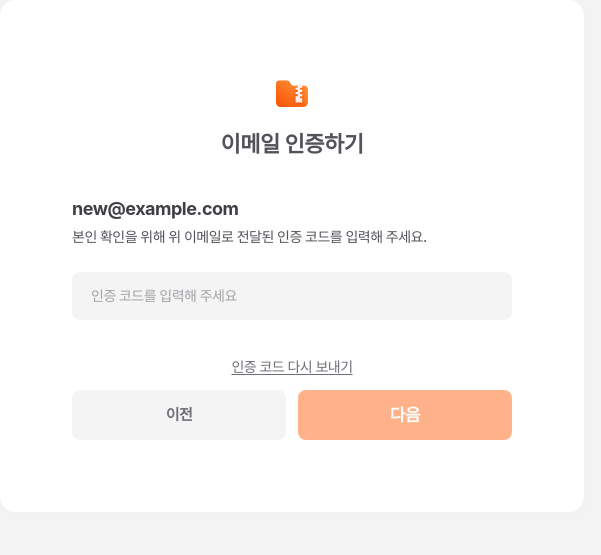
Test: SignupEmailVerificationForm › preserves verification success when a resend finishes later
expect the button "인증 코드 다시 보내기" is enabled: met, box [231,356,352,378]
Type "123456" into the field labelled "인증 코드" at (292, 296), box [91,285,493,307]
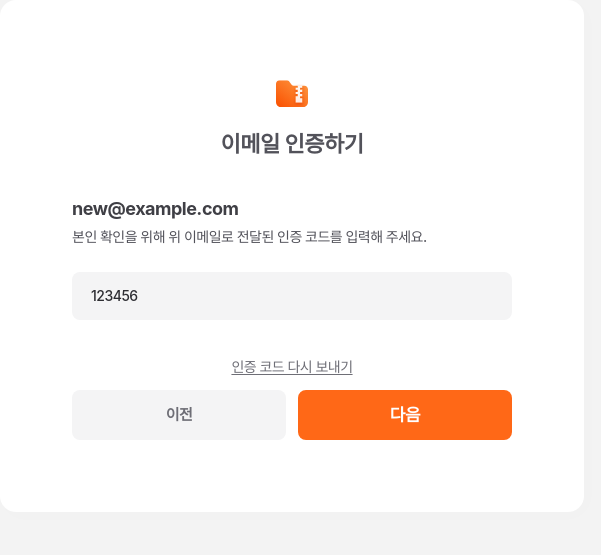
Click the button "인증 코드 다시 보내기" at (292, 367), box [231,356,352,378]
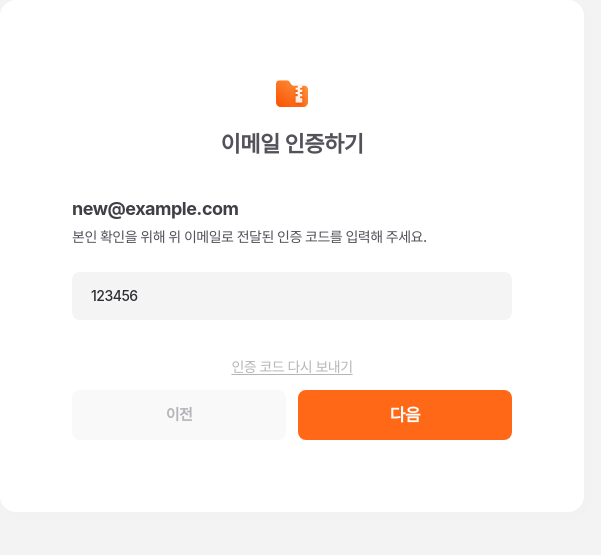
Click the button "다음" at (405, 415), box [298,390,512,440]
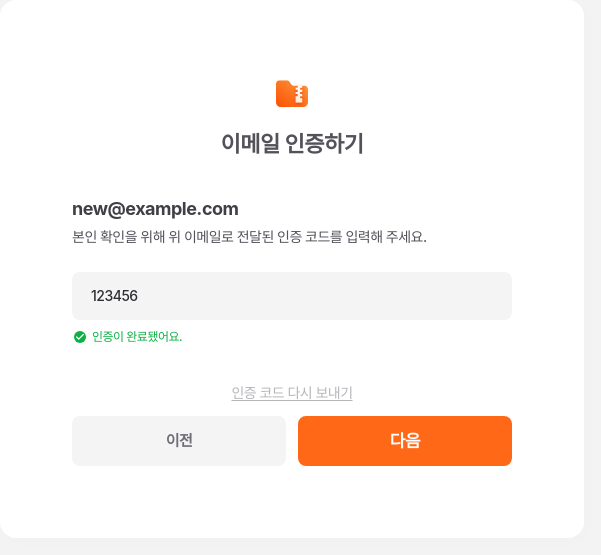
expect the message reads "인증이 완료됐어요.": met, box [92,329,182,344]
